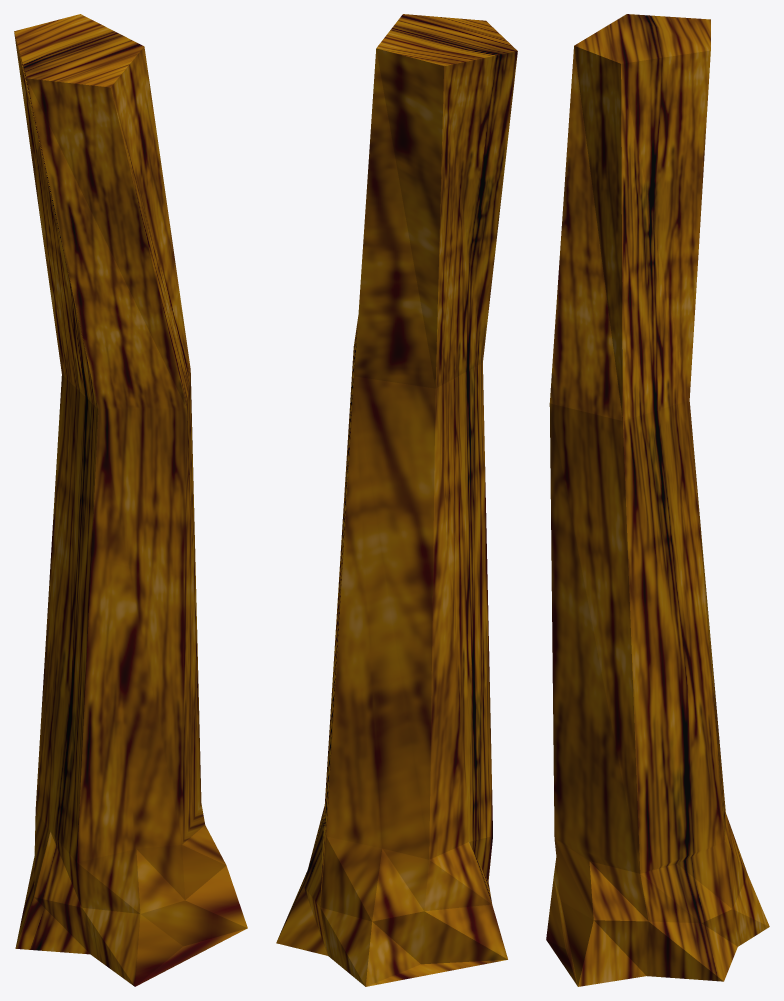
The model's file is MTree_4.gltf.
The picture shows the model from 3 angles, left to right: view 1: azimuth 30°, elevation 25°; view 2: azimuth 150°, elevation 25°; view 3: azimuth 270°, elevation 25°; orthographic projection. The views are drawn at different scales.
Parts seen in each view (by area): view 1: MTree_4; view 2: MTree_4; view 3: MTree_4.
Part boxes in pixels (box(x1,y1,x2,y2)): MTree_4: box(14, 14, 247, 986); MTree_4: box(276, 14, 517, 986); MTree_4: box(546, 14, 769, 986).
Bounding box in the file's own units: 4.13 × 18.08 × 4.06.
1 material, 1 textured.
